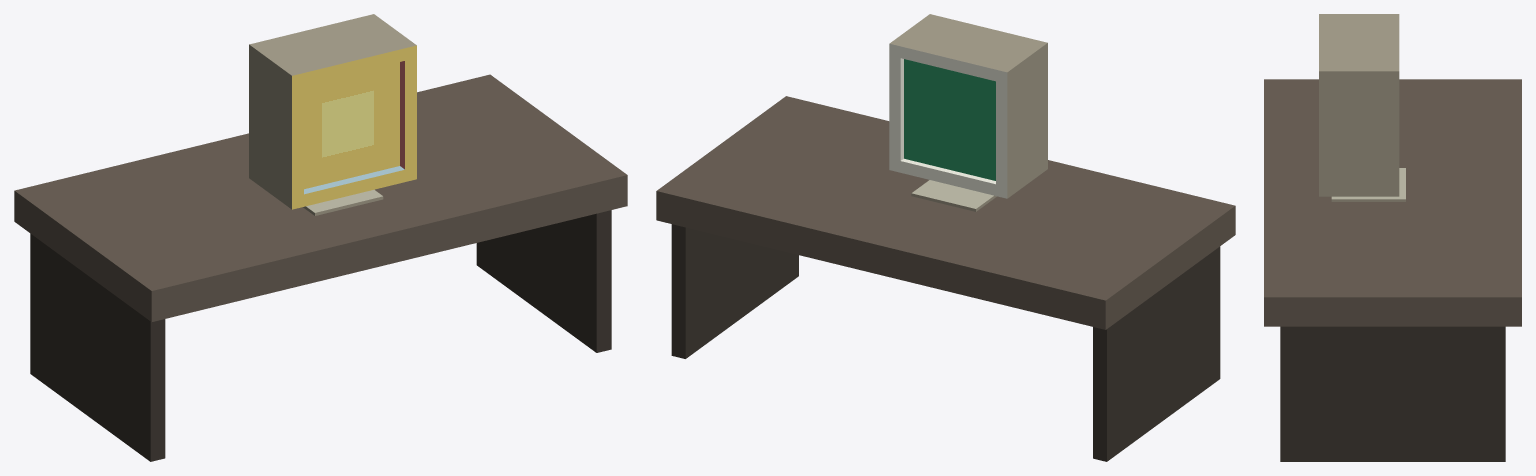
3 renders of one model, left to right at view 1: azimuth 30°, elevation 25°; view 2: azimuth 150°, elevation 25°; view 3: azimuth 270°, elevation 25°, orthographic. The views are drawn at different scales.
Parts seen in each view (by area): view 1: table, pied2, pied1, screen, right, top, left, bottom, base; view 2: table, pied2, pied1, screen, right, top, left, bottom, base; view 3: table, pied1, left, top, base, right.
Boxes of the visible parts, x1,y1,x2,y2 form: table: (14, 74, 627, 321); pied2: (30, 233, 165, 461); pied1: (476, 210, 611, 352); screen: (304, 62, 399, 189); right: (249, 41, 303, 209); top: (261, 17, 404, 85); left: (362, 14, 416, 181); bottom: (304, 166, 404, 206); base: (303, 189, 383, 215); table: (656, 96, 1235, 329); pied2: (1093, 246, 1220, 461); pied1: (671, 224, 798, 358); screen: (904, 59, 995, 180); right: (996, 40, 1047, 198); top: (900, 16, 1035, 81); left: (889, 14, 940, 172); bottom: (900, 158, 995, 195); base: (911, 180, 996, 211); table: (1264, 79, 1521, 326); pied1: (1280, 326, 1505, 461); left: (1319, 65, 1399, 196); top: (1319, 19, 1399, 65); base: (1331, 168, 1405, 201); right: (1319, 14, 1399, 19).
Size of what is drawn, in the model's own units: 1 by 0.6656 by 0.5.
2 materials, 2 textured.
